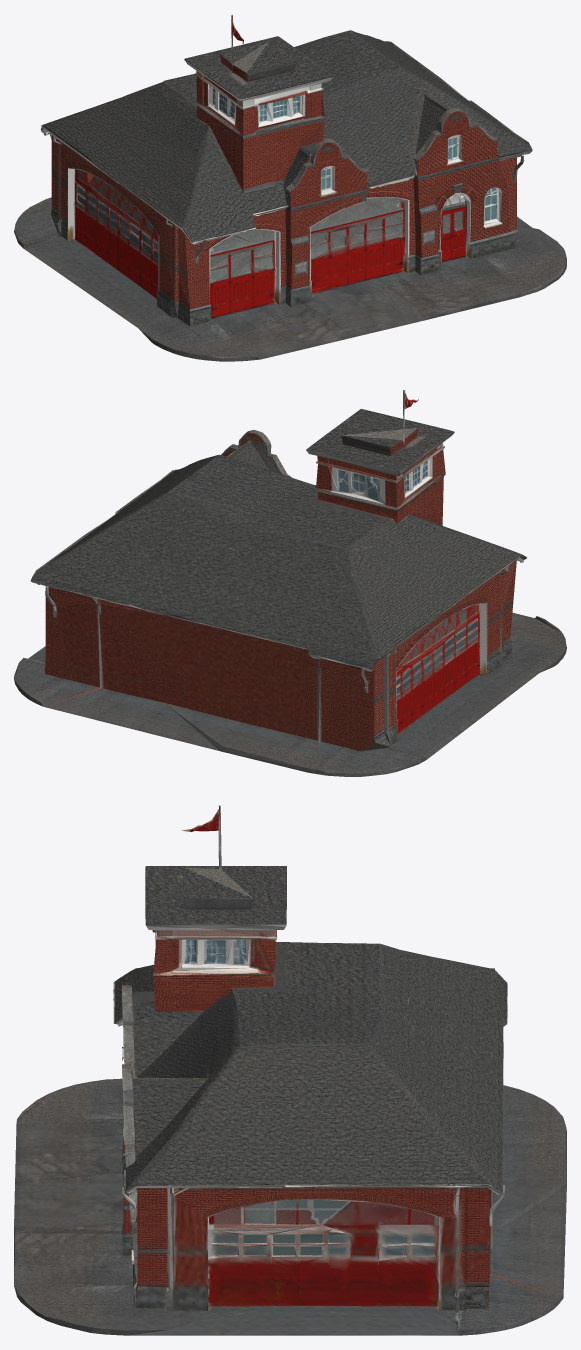
The model's file is fire.glb.
3 renders of one model, top to bottom at view 1: azimuth 30°, elevation 25°; view 2: azimuth 150°, elevation 25°; view 3: azimuth 270°, elevation 25°, orthographic. The views are drawn at different scales.
Bounding box in the file's own units: 1.9 × 1.24 × 1.77.
1 material, 1 textured.
